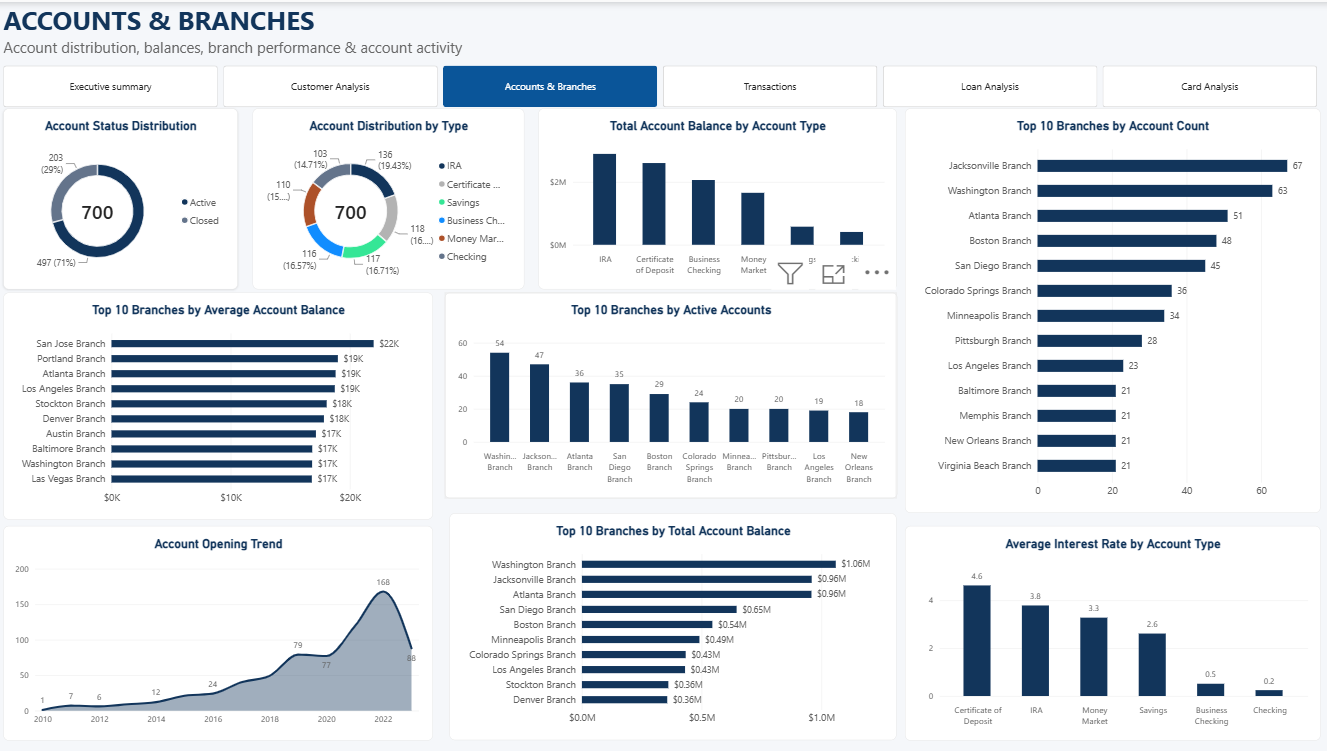

What the dashboard file says about the page in this screenshot:
{"tool":"powerbi","page":{"name":"Accounts & Branches","canvas":[1920,1080],"ordinal":2},"visuals":[{"type":"donutChart","title":"Account Distribution by Type","fields":{"Category":["accounts.account_type"],"Y":["accounts.Total Accounts"]},"box":[367.3,153.1,390.3,260.2],"z":0},{"type":"donutChart","title":"Account Status Distribution","fields":{"Category":["accounts.status"],"Y":["accounts.Total Accounts"]},"box":[10.2,153.1,336.7,260.2],"z":1000},{"type":"clusteredColumnChart","title":"Total Account Balance by Account Type","fields":{"Category":["accounts.account_type"],"Y":["accounts.Total Account Balance"]},"box":[778,153.1,515.3,260.2],"z":2000},{"type":"clusteredBarChart","title":"Top 10 Branches by Average Account Balance","fields":{"Category":["branches.branch_name"],"Y":["accounts.Average Account Balance"]},"box":[10.2,418.3,617.3,326.5],"z":3000},{"type":"clusteredColumnChart","title":"Top 10 Branches by Active Accounts","fields":{"Category":["branches.branch_name"],"Y":["accounts.Active Accounts"]},"box":[642.8,418.3,650.5,295.9],"z":4000},{"type":"clusteredColumnChart","title":"Average Interest Rate by Account Type","fields":{"Category":["accounts.account_type"],"Y":["Avg(accounts.interest_rate)"]},"box":[1306,752.5,596.9,308.7],"z":5000},{"type":"clusteredBarChart","title":"Top 10 Branches by Total Account Balance","fields":{"Category":["branches.branch_name"],"Y":["accounts.Total Account Balance"]},"box":[650.5,734.6,642.8,326.5],"z":6000},{"type":"clusteredBarChart","title":"Top 10 Branches by Account Count","fields":{"Category":["branches.branch_name"],"Y":["accounts.Total Accounts"]},"box":[1306,153.1,596.9,581.6],"z":7000},{"type":"lineChart","title":"Account Opening Trend","fields":{"Category":["date_table.YearMonth.Variation.Date Hierarchy.Year","date_table.YearMonth.Variation.Date Hierarchy.Quarter","date_table.YearMonth.Variation.Date Hierarchy.Month","date_table.YearMonth.Variation.Date Hierarchy.Day"],"Y":["accounts.Accounts Opened"]},"box":[10.2,752.5,617.3,308.7],"z":8000},{"type":"textbox","box":[10.2,0,785.7,102],"z":9000},{"type":"pageNavigator","box":[10.2,91.8,1892.7,60],"z":10000}]}

Visuals, with their boxes in screenshot pixels (x1, y1, x2, y2), scaled from the page's 1920x1080 canvas onto the 1327x751 screenshot:
"Account Distribution by Type" donutChart: 254/106/524/287
"Account Status Distribution" donutChart: 7/106/240/287
"Total Account Balance by Account Type" clusteredColumnChart: 538/106/894/287
"Top 10 Branches by Average Account Balance" clusteredBarChart: 7/291/434/518
"Top 10 Branches by Active Accounts" clusteredColumnChart: 444/291/894/497
"Average Interest Rate by Account Type" clusteredColumnChart: 903/523/1315/738
"Top 10 Branches by Total Account Balance" clusteredBarChart: 450/511/894/738
"Top 10 Branches by Account Count" clusteredBarChart: 903/106/1315/511
"Account Opening Trend" lineChart: 7/523/434/738
textbox: 7/0/550/71
pageNavigator: 7/64/1315/106
